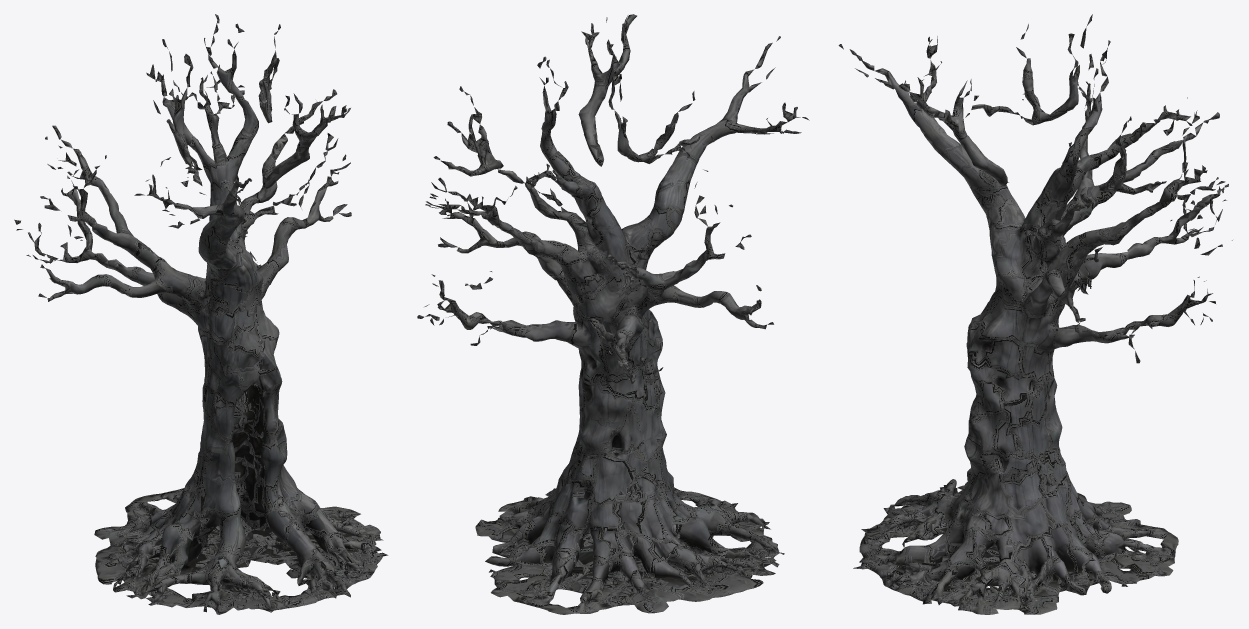
3 renders of one model, left to right at view 1: azimuth 30°, elevation 25°; view 2: azimuth 150°, elevation 25°; view 3: azimuth 270°, elevation 25°, orthographic. The views are drawn at different scales.
Bounding box in the file's own units: 1.29 × 1.92 × 1.31.
Materials: 1 (1 with a texture image).
